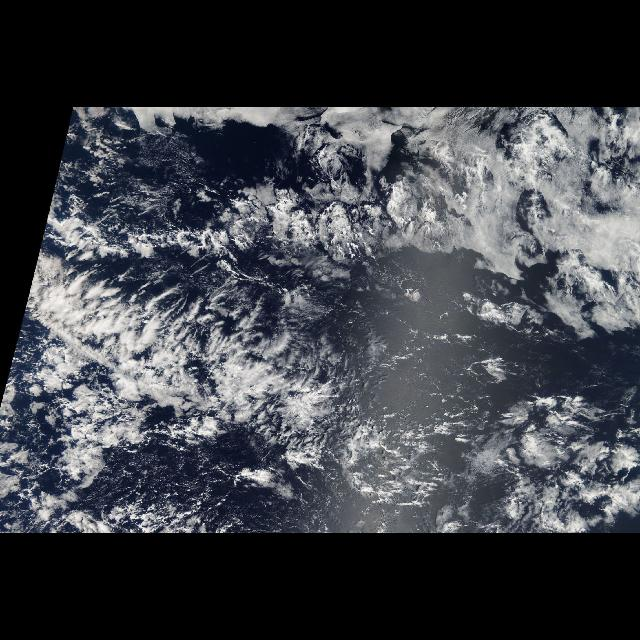Fish: (10, 238, 446, 472)
Sugar: (312, 349, 536, 533)
